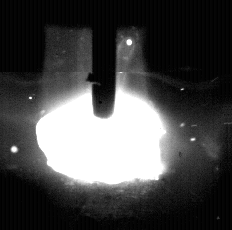arame: (93, 0, 117, 120)
poca: (36, 0, 168, 230)
